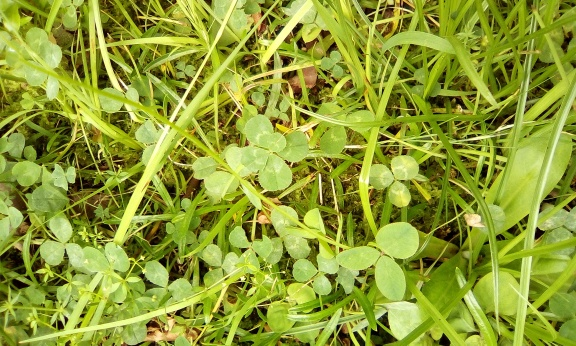4leaf: (225, 114, 310, 191)
